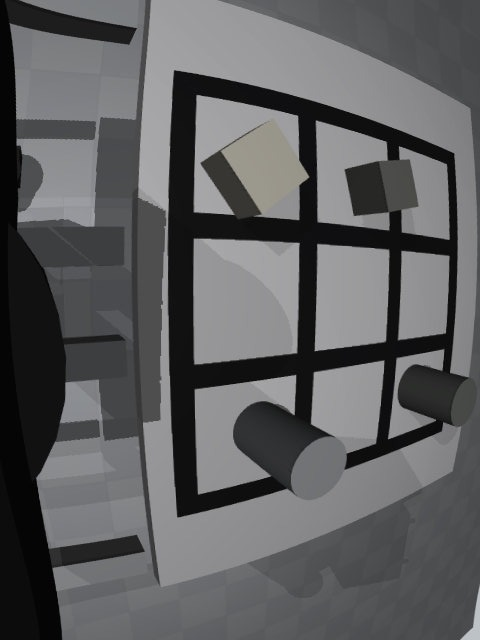can: (233, 401, 347, 500)
cube: (345, 159, 418, 216)
cylinder: (397, 364, 477, 427)
foam: (200, 119, 309, 220)
